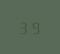nine: (30, 20, 40, 34)
three: (19, 20, 29, 34)
